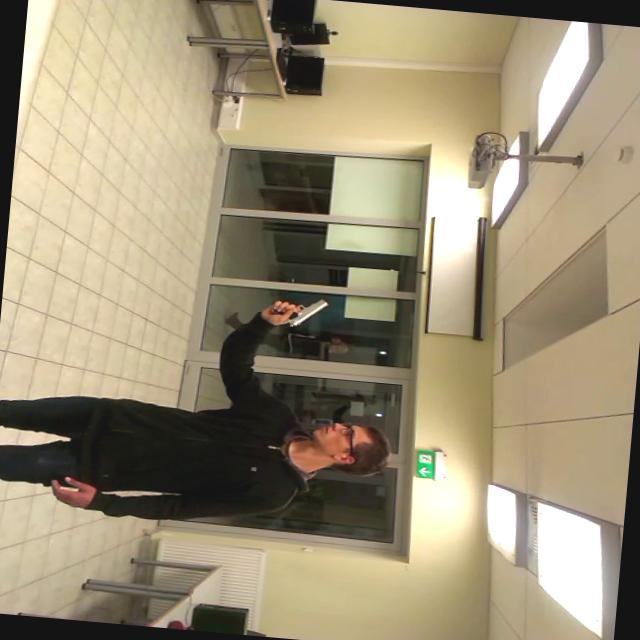handgun: (250, 284, 336, 342)
